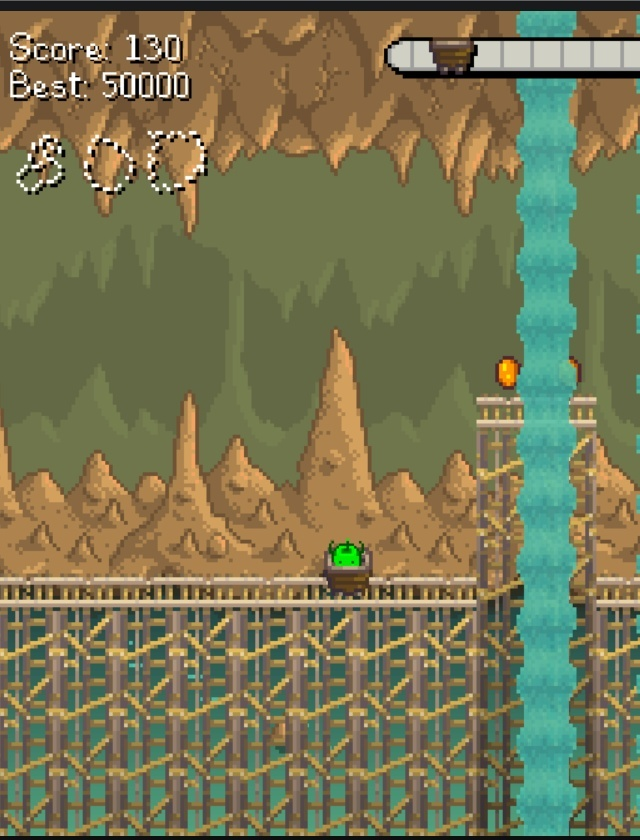coins: (558, 350, 584, 395), (495, 356, 519, 389), (570, 356, 581, 383)
minecart: (323, 542, 370, 595)
score: (125, 29, 188, 69)
tracks: (0, 566, 318, 616), (478, 390, 602, 430), (595, 571, 640, 615)
